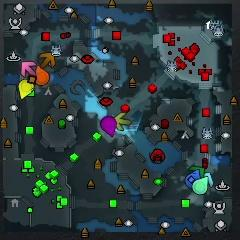p1: (185, 169, 201, 189)
p2: (192, 177, 209, 194)
p3: (100, 116, 117, 137)
p4: (18, 79, 36, 100)
p5: (34, 65, 50, 86)
x1: (21, 61, 37, 80)
x2: (114, 112, 131, 131)
x3: (203, 172, 214, 187)
x4: (190, 165, 205, 177)
x5: (39, 52, 55, 68)
